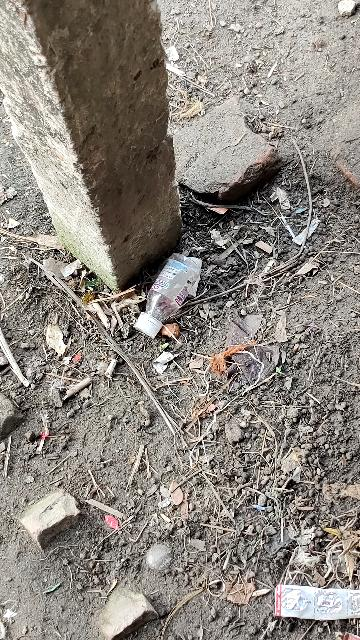bottle: (134, 253, 215, 340)
